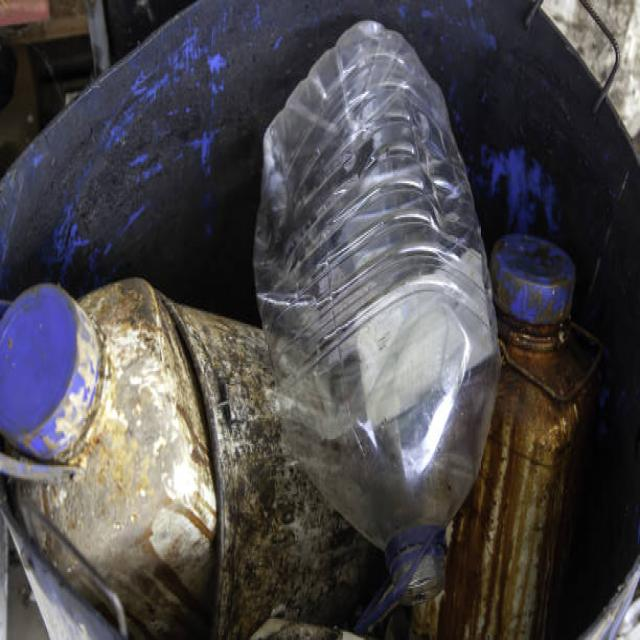plastic: (48, 95, 557, 598)
